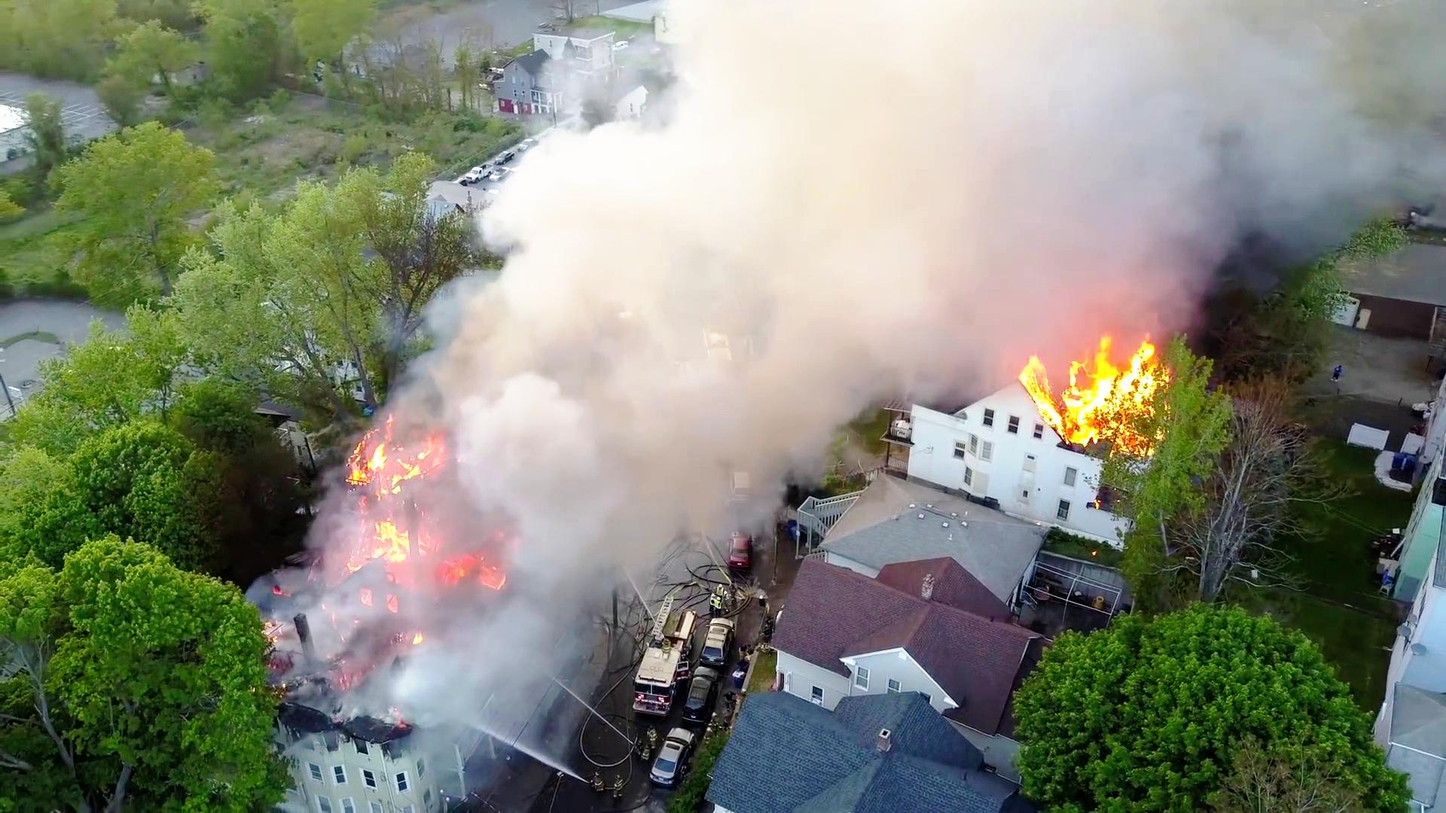fire: (1004, 339, 1147, 438), (329, 416, 424, 505)
